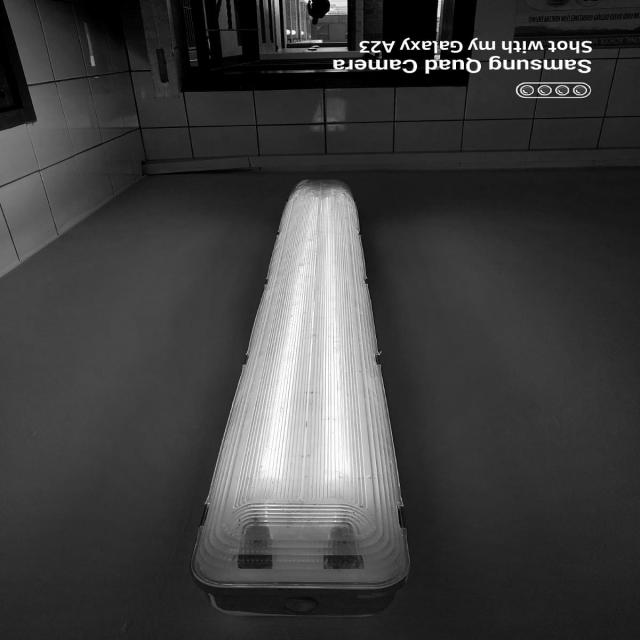light: (189, 178, 411, 616)
